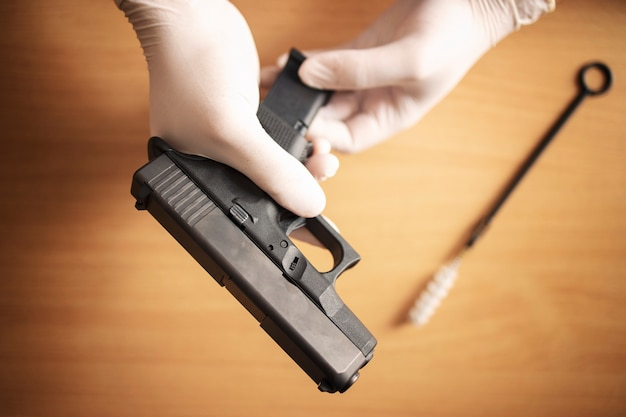gun: (130, 46, 379, 395)
